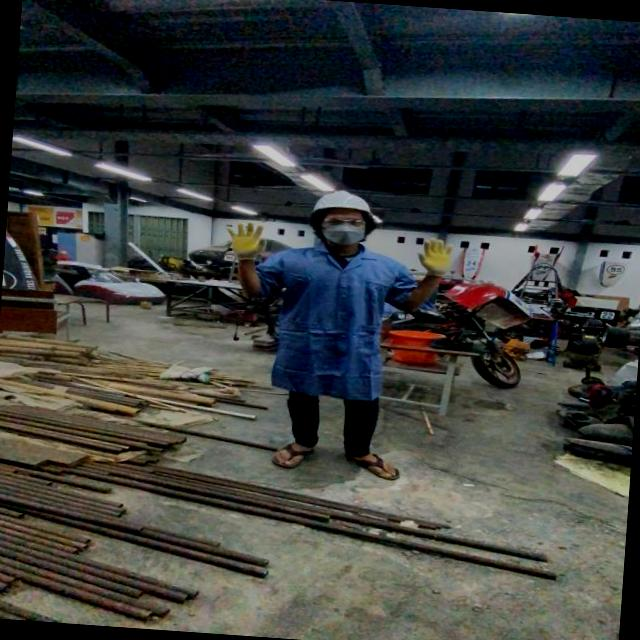gloves: (218, 220, 272, 270)
helmet: (303, 182, 381, 227)
no-boots: (259, 414, 321, 486), (342, 430, 406, 490)
no-vest: (270, 225, 410, 408)
